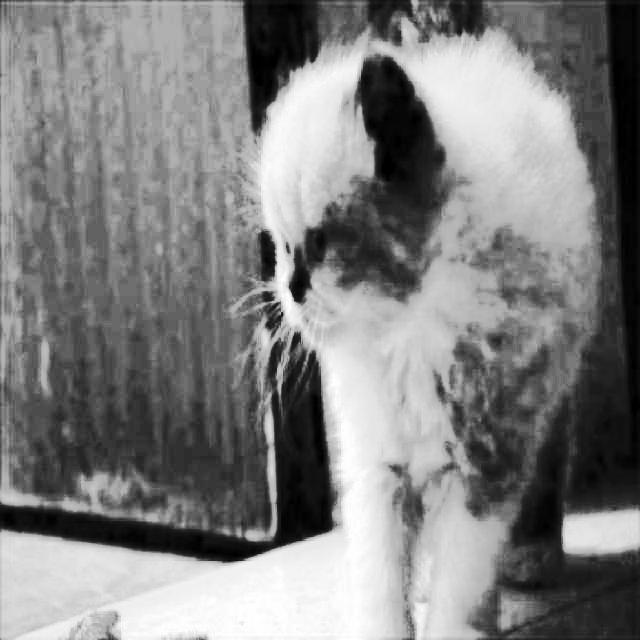Cat: (243, 0, 600, 640)
